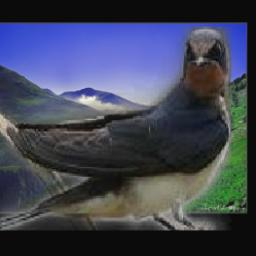Swallow: (0, 28, 231, 232)
